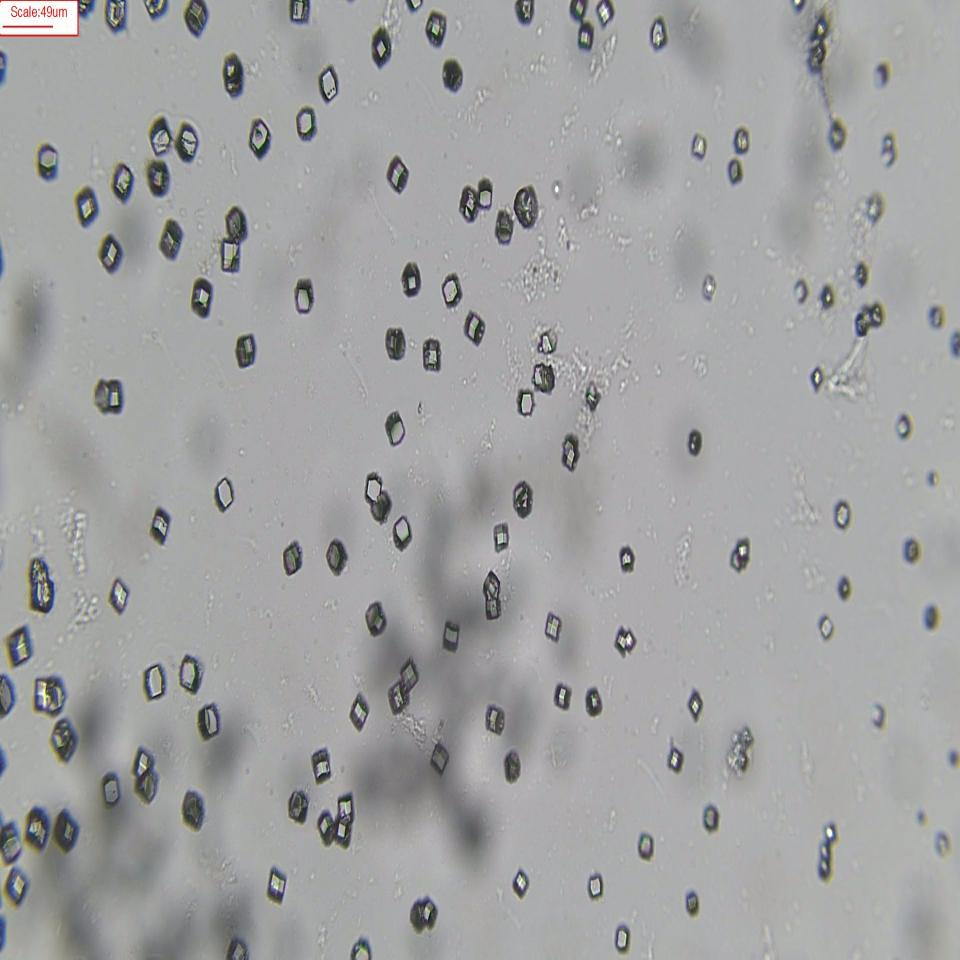crystal: (133, 743, 161, 806), (28, 558, 55, 613), (5, 624, 33, 670), (33, 676, 64, 716), (53, 808, 80, 852), (24, 807, 50, 852), (145, 160, 175, 198), (51, 718, 78, 760), (513, 184, 538, 228), (94, 377, 122, 415), (158, 218, 183, 260), (0, 820, 22, 866), (98, 234, 123, 274), (410, 896, 436, 934), (4, 866, 28, 907), (178, 654, 202, 694), (181, 790, 205, 830), (142, 663, 166, 702), (176, 122, 200, 161), (398, 656, 420, 697), (75, 187, 98, 226), (150, 119, 173, 158), (198, 702, 221, 740), (248, 118, 271, 156), (224, 205, 247, 243), (387, 153, 408, 194), (112, 163, 134, 202), (458, 184, 480, 223), (223, 54, 243, 96), (183, 1, 207, 36), (190, 279, 212, 317), (348, 692, 370, 730), (36, 142, 58, 179), (221, 238, 242, 276), (266, 866, 287, 904), (482, 570, 501, 612), (387, 678, 408, 716), (108, 578, 130, 614), (287, 788, 309, 824), (371, 27, 391, 66), (464, 309, 485, 346), (100, 772, 121, 809), (318, 64, 338, 102), (532, 361, 555, 394), (441, 272, 462, 308), (425, 10, 446, 46), (282, 540, 303, 576), (326, 539, 347, 575), (442, 57, 463, 93), (311, 747, 332, 783), (150, 508, 170, 545), (384, 411, 405, 446), (385, 326, 406, 361), (235, 333, 256, 368), (365, 601, 386, 636), (371, 489, 392, 524), (316, 808, 335, 846), (401, 261, 421, 297), (296, 106, 316, 142), (294, 277, 314, 313), (392, 515, 412, 551), (828, 117, 846, 157), (512, 481, 532, 516), (429, 741, 449, 776), (495, 208, 514, 244), (730, 537, 750, 571), (422, 338, 441, 373), (334, 813, 353, 848), (213, 478, 235, 508), (562, 434, 580, 470), (336, 792, 354, 828), (503, 750, 522, 784), (615, 626, 635, 657), (477, 176, 494, 211), (650, 17, 668, 50), (485, 704, 504, 735), (544, 610, 562, 642), (687, 688, 704, 721), (667, 742, 684, 775), (512, 868, 530, 899), (442, 620, 460, 651), (364, 474, 382, 505), (106, 0, 125, 29), (289, 0, 310, 26), (585, 687, 603, 717), (834, 500, 852, 530), (553, 682, 572, 710), (226, 936, 248, 960), (595, 0, 614, 27), (538, 329, 557, 356), (638, 831, 655, 861), (614, 924, 631, 954), (702, 804, 720, 832), (903, 537, 921, 565), (350, 936, 371, 960), (618, 544, 635, 573), (517, 388, 534, 417), (587, 872, 604, 901), (577, 22, 594, 51), (493, 522, 509, 552), (569, 0, 589, 24), (733, 126, 750, 154), (727, 158, 744, 186), (584, 382, 600, 411), (923, 604, 940, 631), (515, 0, 534, 24), (691, 132, 707, 160), (895, 413, 912, 439), (870, 702, 886, 729), (818, 615, 834, 641), (685, 890, 700, 917), (837, 575, 852, 602), (702, 274, 717, 301), (687, 430, 702, 456), (810, 365, 824, 392)
not_crystal: (726, 725, 755, 778), (808, 11, 832, 71), (817, 824, 838, 882), (854, 300, 886, 338), (880, 132, 898, 168), (143, 0, 166, 20), (790, 1, 807, 14)
